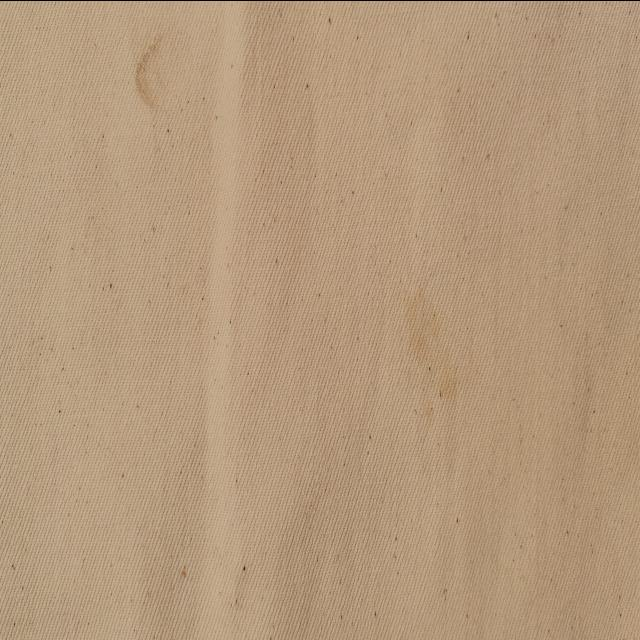taaaches: (402, 274, 456, 410), (126, 29, 172, 130)
